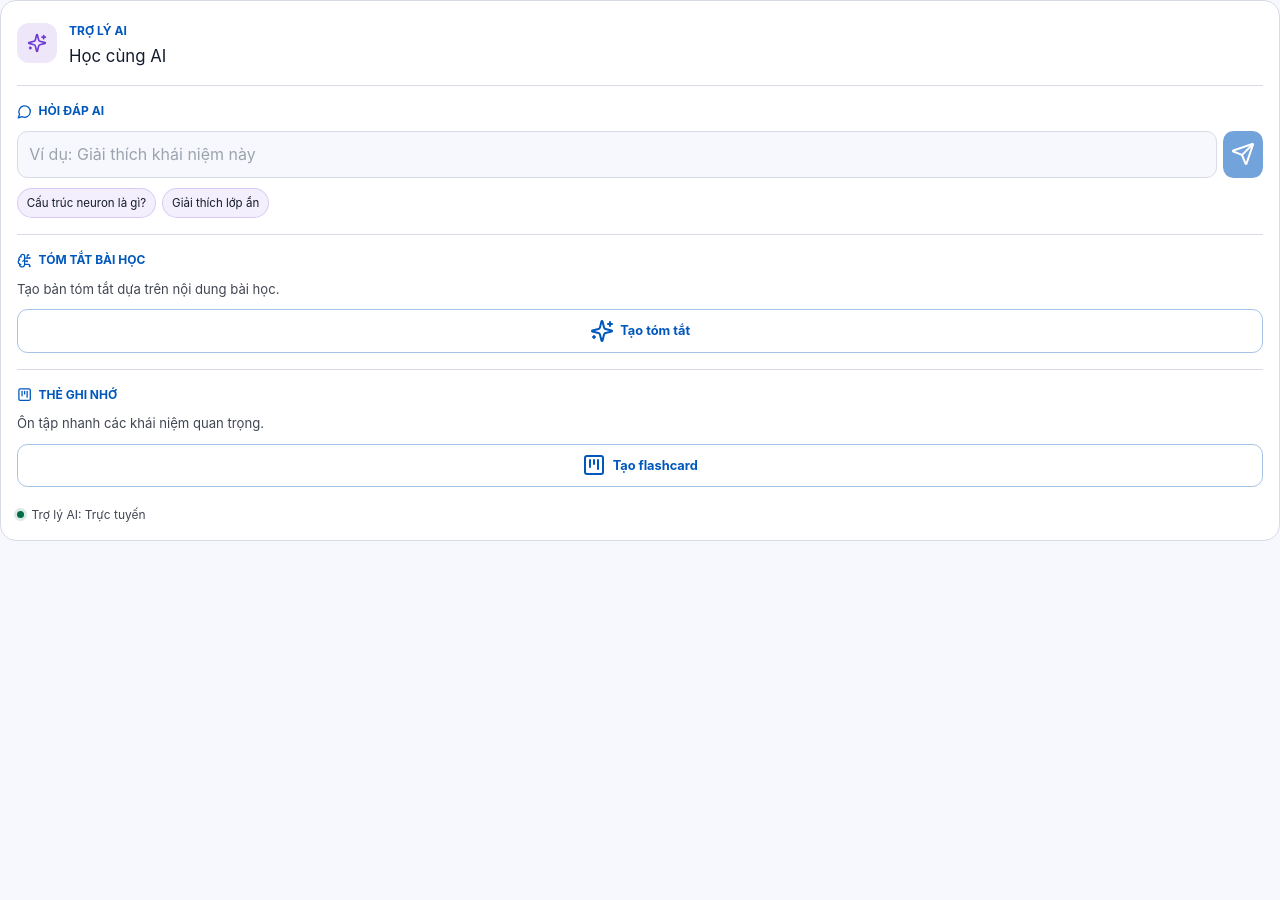
Scenario: LessonAssistant › loads lesson-grounded summary and flashcards through existing AI APIs
This screenshot has width=1280, height=900.
Click the button "Tạo tóm tắt" at (640, 331), box [17,309,1263,353]
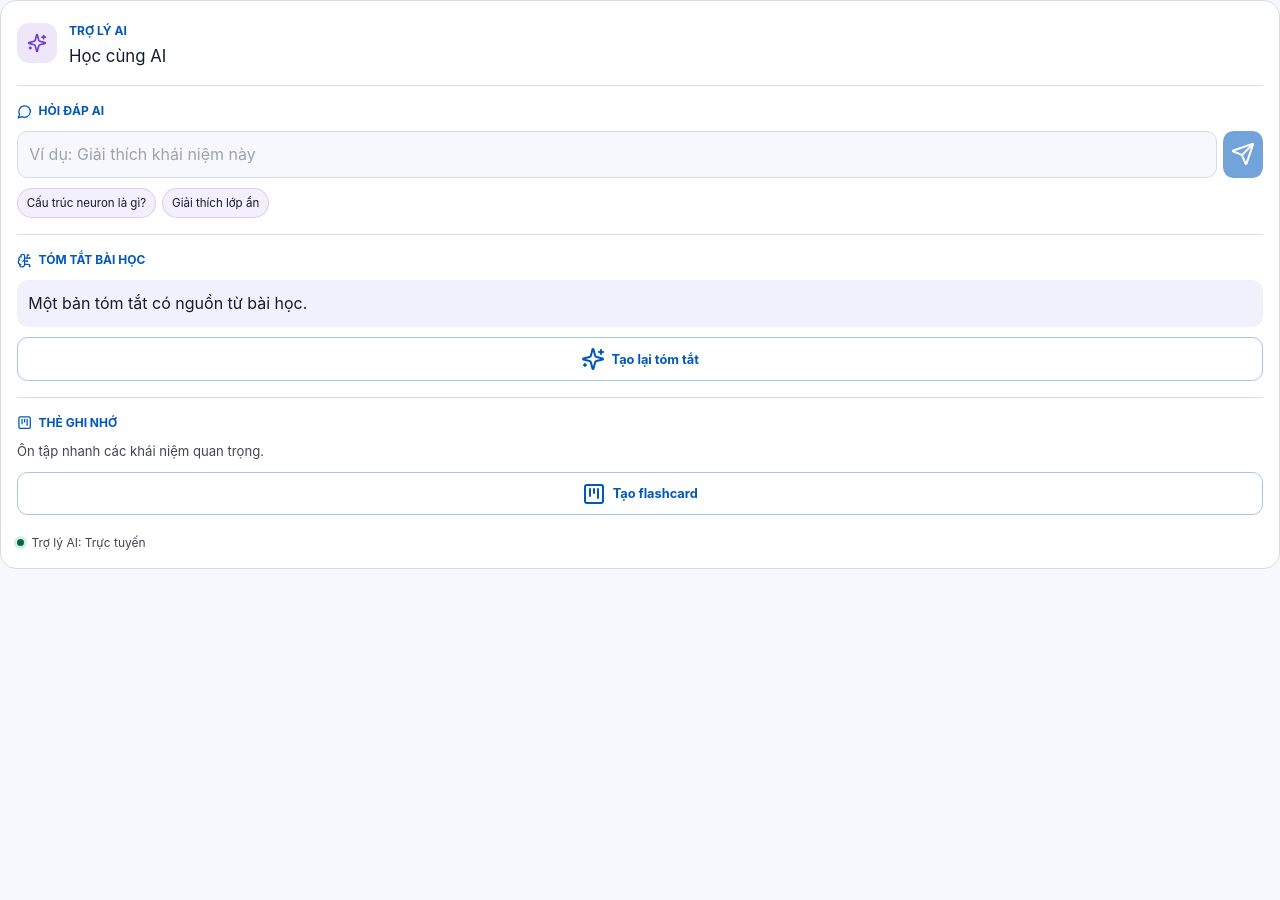
Expected: the text "Một bản tóm tắt có nguồn từ bài học." is shown, [17,280,1263,327]
Click the button "Tạo flashcard" at (640, 494), box [17,472,1263,515]
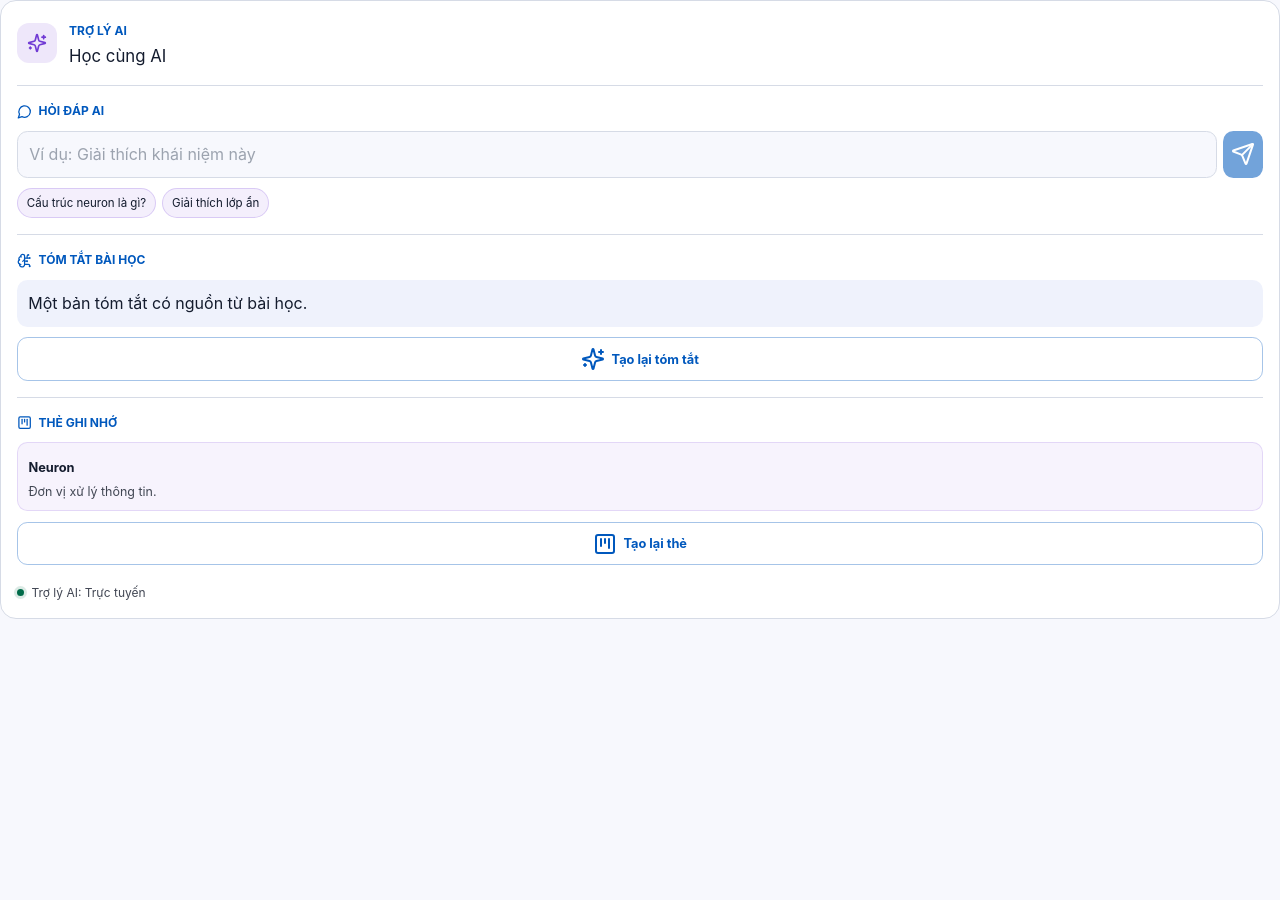
Expected: the text "Đơn vị xử lý thông tin." is shown, [28,484,157,498]
